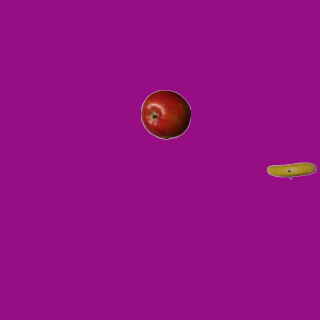Apple Braeburn: (140, 89, 190, 139)
Banana: (266, 145, 316, 195)
